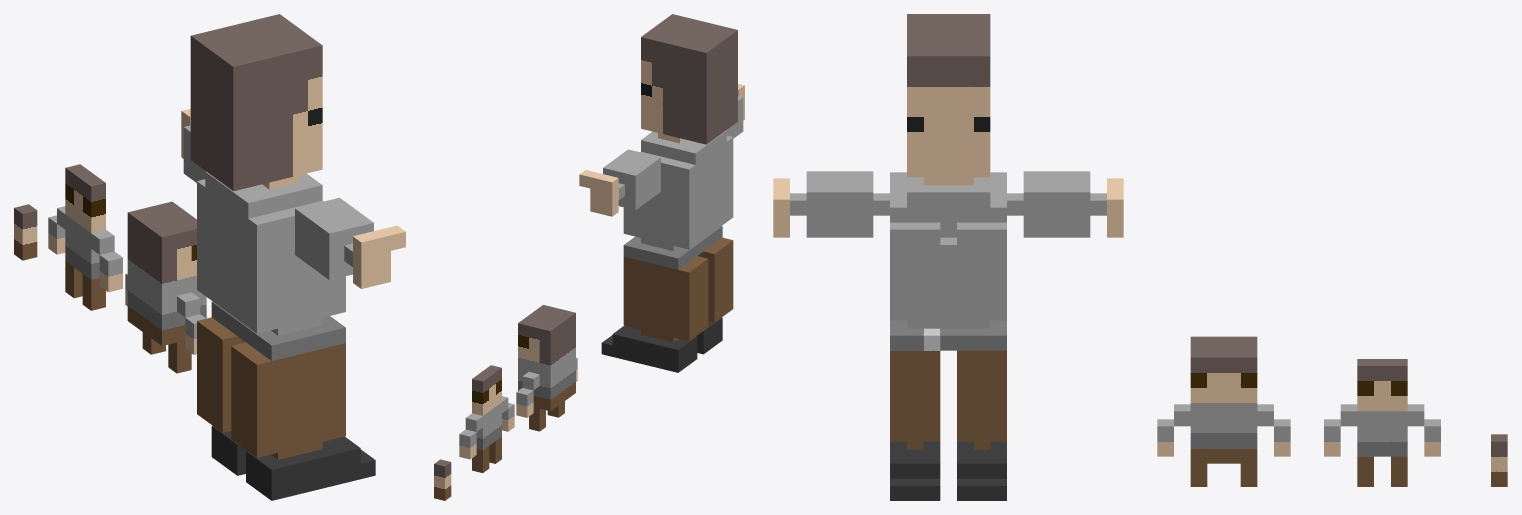
Rendered from tam.glb.
The picture shows the model from 3 angles, left to right: view 1: azimuth 30°, elevation 25°; view 2: azimuth 150°, elevation 25°; view 3: azimuth 270°, elevation 25°; orthographic projection. The views are drawn at different scales.
Parts seen in each view (by area): view 1: pl0; view 2: pl0; view 3: pl0.
Boxes of the visible parts, left/top/right/bottom form: pl0: left=14, top=14, right=405, bottom=500; pl0: left=434, top=14, right=744, bottom=500; pl0: left=773, top=14, right=1507, bottom=500.
Size of the model in its own units: 9 by 28 by 44.
1 material, 1 textured.
